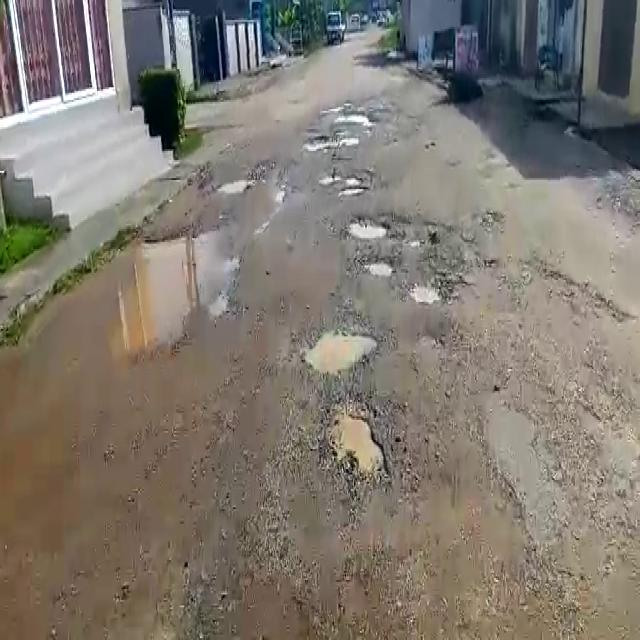Pothole: (106, 238, 245, 372), (316, 394, 398, 494), (297, 324, 379, 379), (405, 274, 459, 304), (342, 215, 392, 242), (319, 171, 368, 197), (304, 131, 362, 150), (361, 255, 398, 276), (219, 180, 253, 194)
